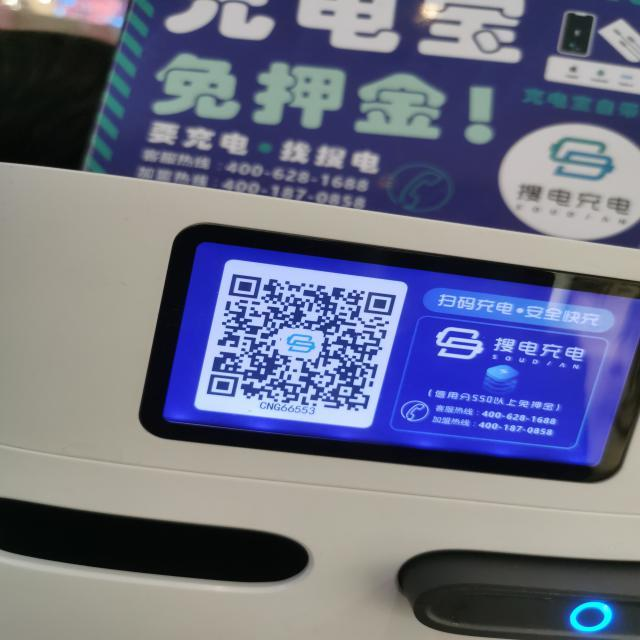qr_code: (206, 274, 395, 414)
